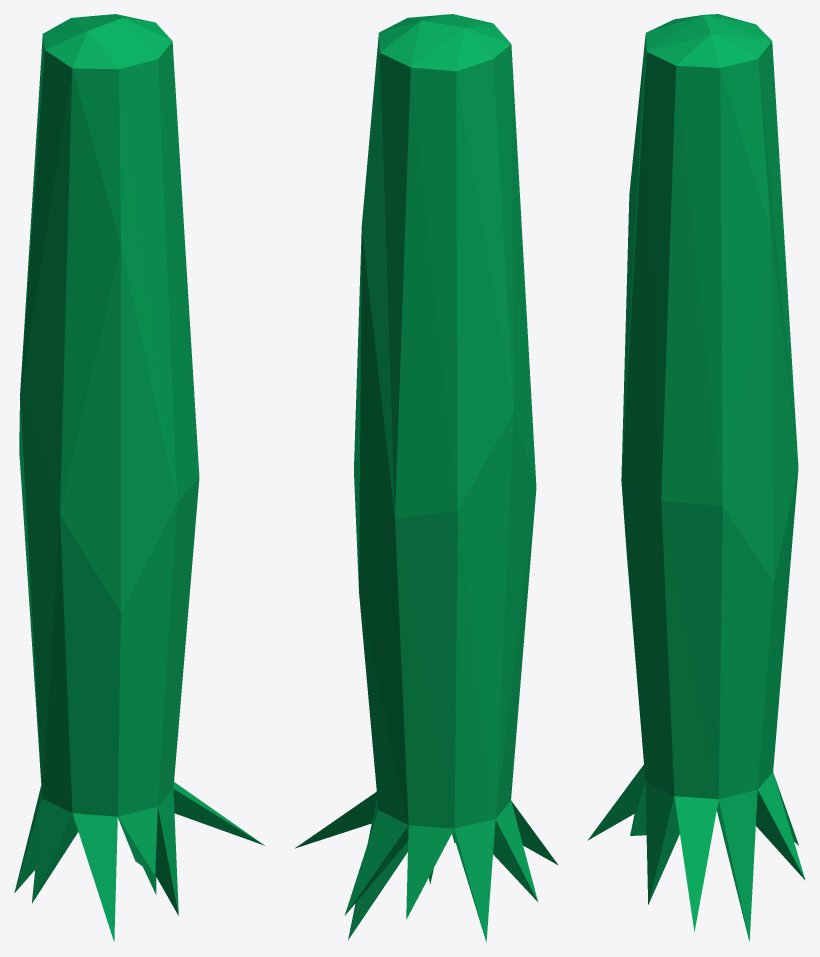
File: SeguaroCactusMedium2_LOD1.fbx
3 renders of one model, left to right at view 1: azimuth 30°, elevation 25°; view 2: azimuth 150°, elevation 25°; view 3: azimuth 270°, elevation 25°, orthographic. The views are drawn at different scales.
Parts seen in each view (by area): view 1: SeguaroCactusMedium2_LOD1; view 2: SeguaroCactusMedium2_LOD1; view 3: SeguaroCactusMedium2_LOD1.
Boxes of the visible parts, x1,y1,x2,y2 form: SeguaroCactusMedium2_LOD1: [14, 14, 264, 941]; SeguaroCactusMedium2_LOD1: [295, 14, 558, 942]; SeguaroCactusMedium2_LOD1: [587, 14, 805, 941].
Bounding box in the file's own units: 68.51 × 306 × 84.03.
